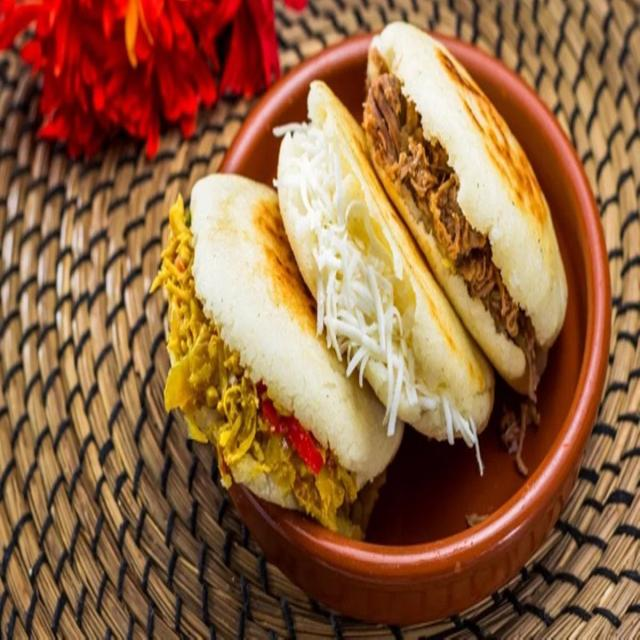arepa: (359, 17, 579, 420)
